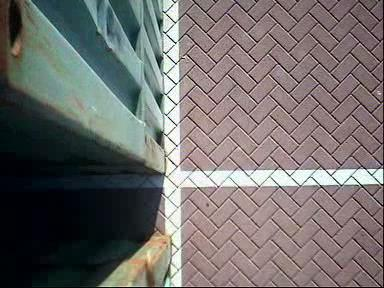groundmarker_2: (88, 74, 148, 109), (90, 223, 150, 258)
